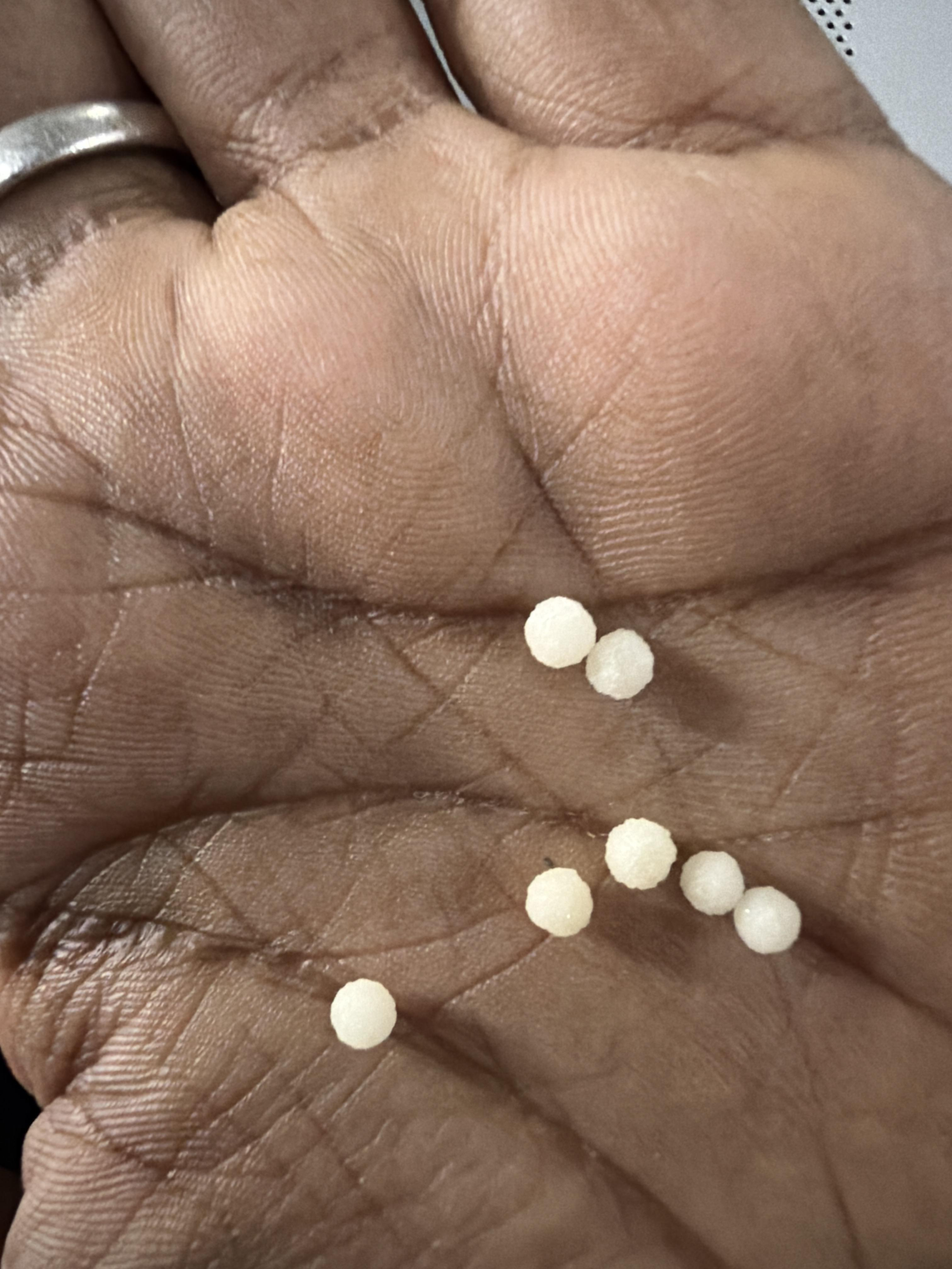pill: (524, 596, 596, 668), (605, 819, 677, 889), (585, 629, 654, 700), (525, 867, 593, 937), (330, 978, 397, 1049), (734, 887, 801, 954), (680, 851, 744, 915)
